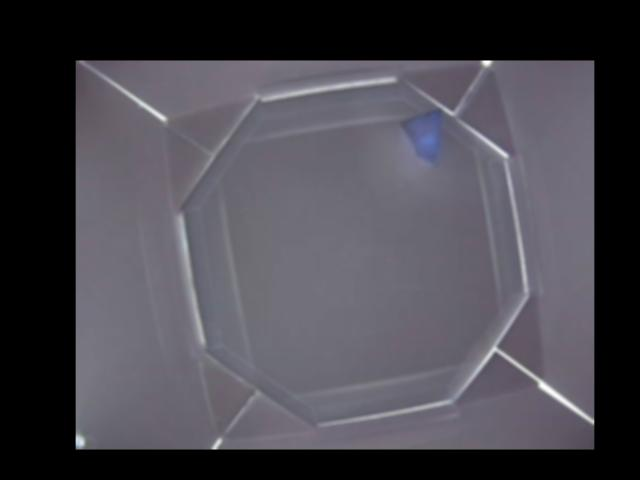Mooli: (400, 107, 446, 163)
